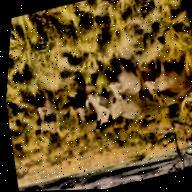boar: (77, 81, 169, 135), (137, 55, 192, 106), (99, 62, 143, 112), (26, 87, 68, 139), (178, 75, 192, 133), (68, 100, 94, 131)
